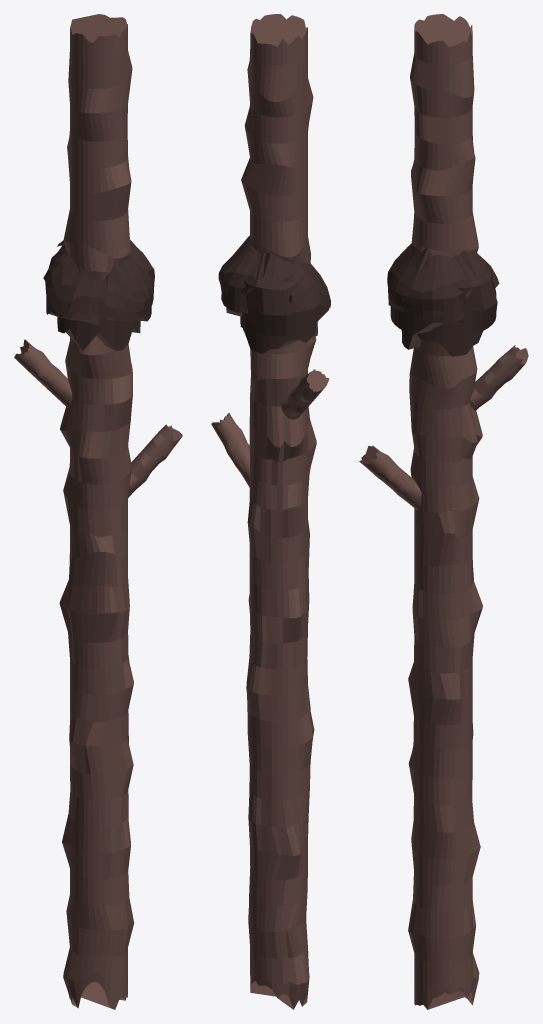
File: Torch4.fbx
3 views of the same model, side by side, from view 1: azimuth 90°, elevation 25°; view 2: azimuth 210°, elevation 25°; view 3: azimuth 270°, elevation 25° (orthographic).
Visible parts, largest first — view 1: Torch4; view 2: Torch4; view 3: Torch4.
Part boxes in pixels (bbox=[...]): Torch4: bbox=[14, 14, 182, 1009]; Torch4: bbox=[211, 14, 330, 1009]; Torch4: bbox=[359, 14, 528, 1009].
Size of the model in its own units: 378 by 3700 by 580.
